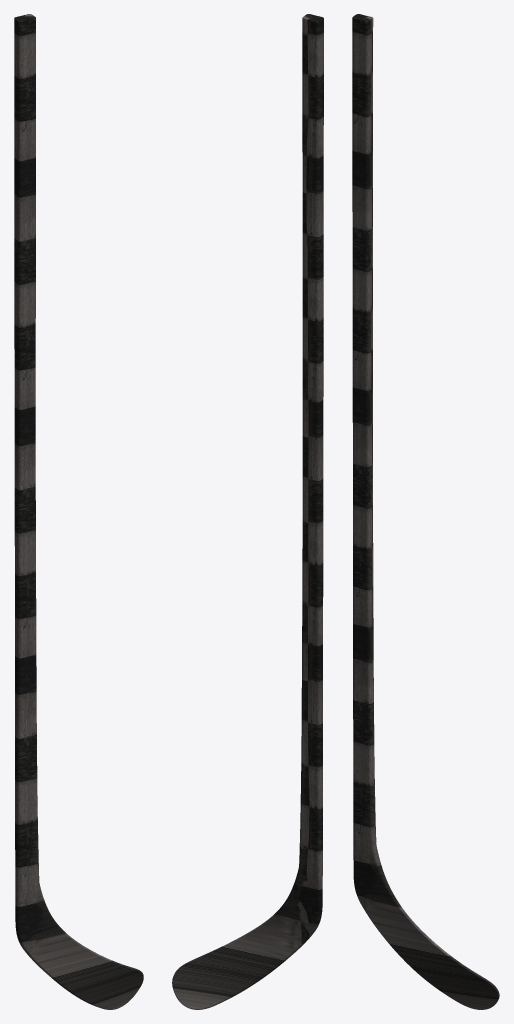
Rendered from P911-SBT.glb.
The picture shows the model from 3 angles, left to right: view 1: azimuth 30°, elevation 25°; view 2: azimuth 150°, elevation 25°; view 3: azimuth 330°, elevation 25°; orthographic projection. The views are drawn at different scales.
Visible parts, largest first — view 1: geometry_0; view 2: geometry_0; view 3: geometry_0.
Part boxes in pixels (left/top/right/bottom): geometry_0: left=14, top=14, right=143, bottom=1009; geometry_0: left=172, top=14, right=323, bottom=1009; geometry_0: left=352, top=14, right=499, bottom=1009.
Size of the model in its own units: 235 by 1650 by 55.42.
Materials: 1 (1 with a texture image).
